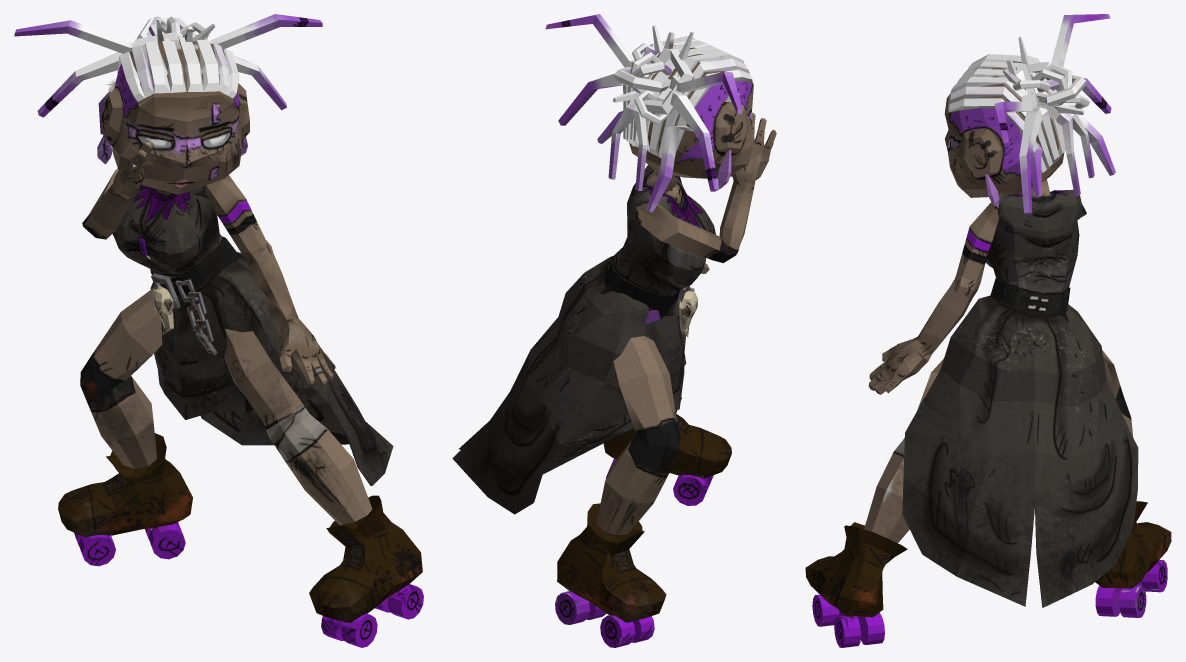
The model's file is bruja_000048.obj.
3 renders of one model, left to right at view 1: azimuth 30°, elevation 25°; view 2: azimuth 150°, elevation 25°; view 3: azimuth 270°, elevation 25°, orthographic. The views are drawn at different scales.
Parts seen in each view (by area): view 1: Bruja_Plane.001; view 2: Bruja_Plane.001; view 3: Bruja_Plane.001.
Part boxes in pixels (x1,y1,x2,y2): Bruja_Plane.001: [14, 14, 423, 647]; Bruja_Plane.001: [452, 14, 776, 647]; Bruja_Plane.001: [805, 14, 1171, 647].
Size of the model in its own units: 9.26 by 15.44 by 9.25.
